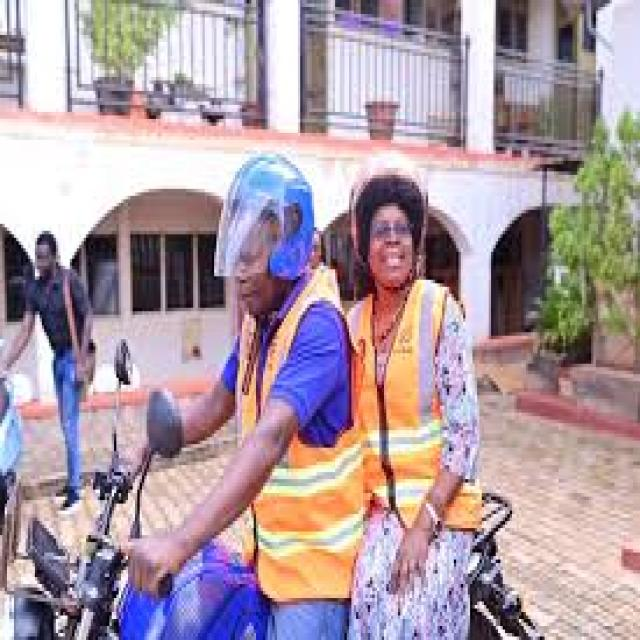bodaboda: (19, 332, 577, 640)
